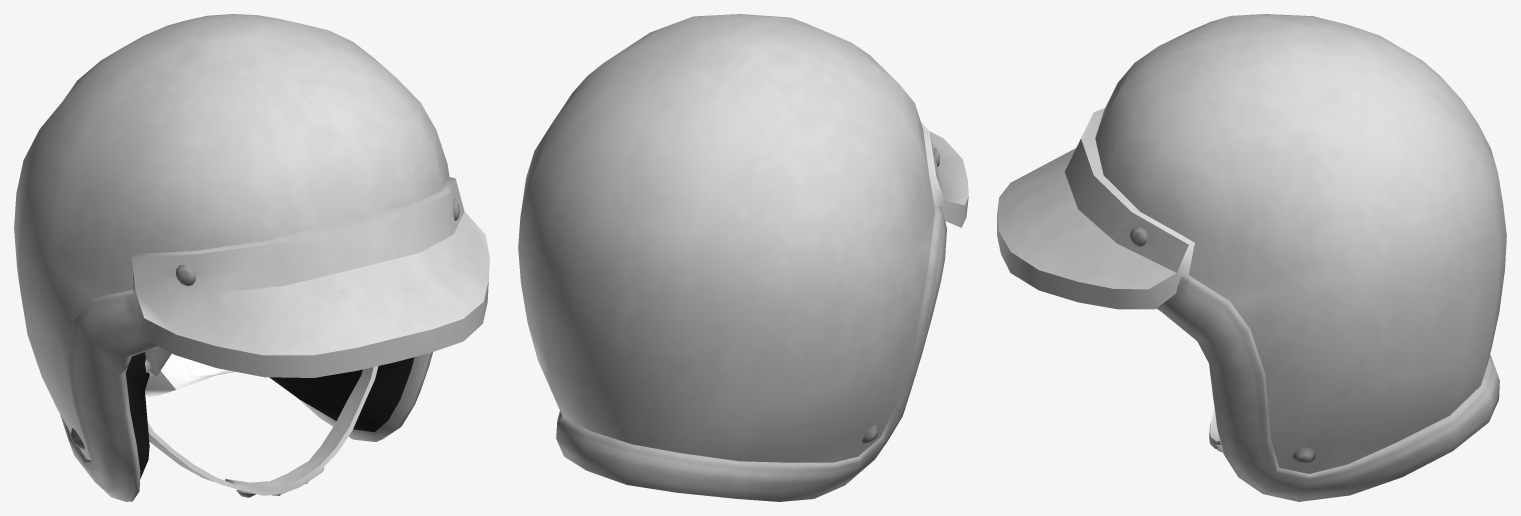
Rendered from p0_hdw0104_00_hdw00.gltf.
3 renders of one model, left to right at view 1: azimuth 30°, elevation 25°; view 2: azimuth 150°, elevation 25°; view 3: azimuth 270°, elevation 25°, orthographic. The views are drawn at different scales.
Parts seen in each view (by area): view 1: hdw00_met_mesh_shape:cap, hdw00_hairstyle_mesh_shape:hairstyle; view 2: hdw00_met_mesh_shape:cap; view 3: hdw00_met_mesh_shape:cap.
Boxes of the visible parts, x1=… form: hdw00_met_mesh_shape:cap: x1=14, y1=14, x2=489, y2=501; hdw00_hairstyle_mesh_shape:hairstyle: x1=145, y1=346, x2=235, y2=396; hdw00_met_mesh_shape:cap: x1=518, y1=14, x2=968, y2=501; hdw00_met_mesh_shape:cap: x1=997, y1=14, x2=1506, y2=501.
Size of what is drawn, in the model's own units: 0.3041 by 0.3314 by 0.3713.
2 materials, 1 textured.
